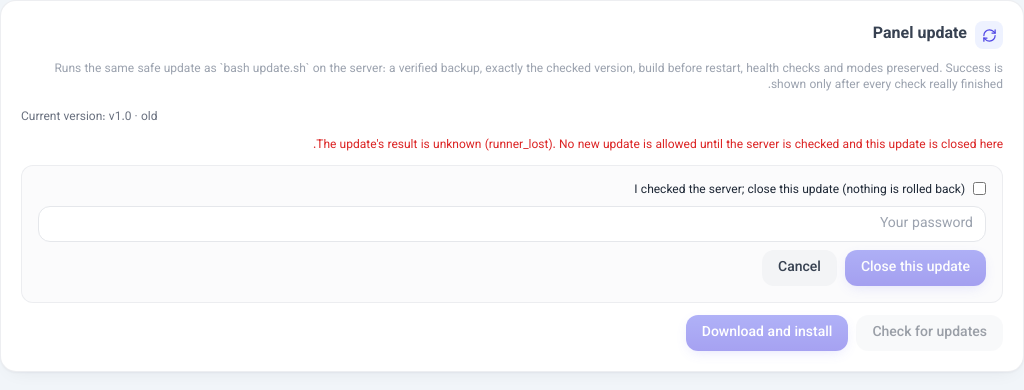
Test case: panel update card › an unknown result blocks a new update and offers only the confirmed, password-checked close
The width and height of the screenshot is (1024, 390).
Expected: the message shows "runner_lost", [313,136,1003,154]
Expected: the button "Check for updates" is disabled, [856,315,1003,351]
Click the checkbox.
click(980, 188)  # box [973,182,986,195]
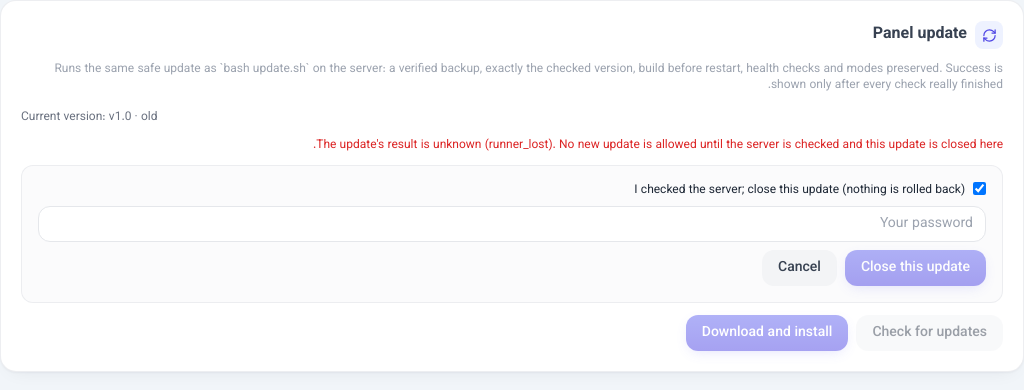
Type "pw" into the password field labelled "Your password".
click(512, 224); type("pw")  # box [38,206,986,242]
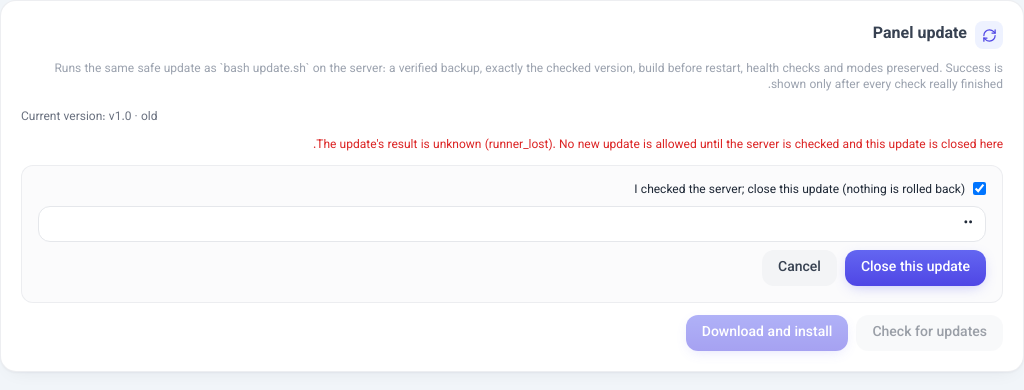
Click the button "Close this update".
click(915, 268)  # box [845,250,986,286]
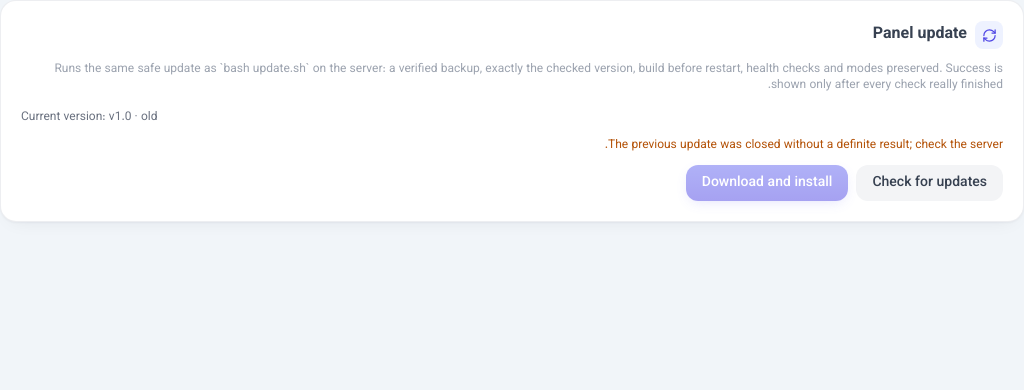
Now the text "closed without a definite result" is shown, box [605,136,1003,154]
